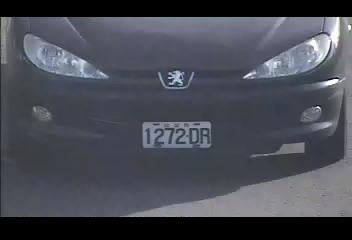plate: (139, 119, 213, 150)
